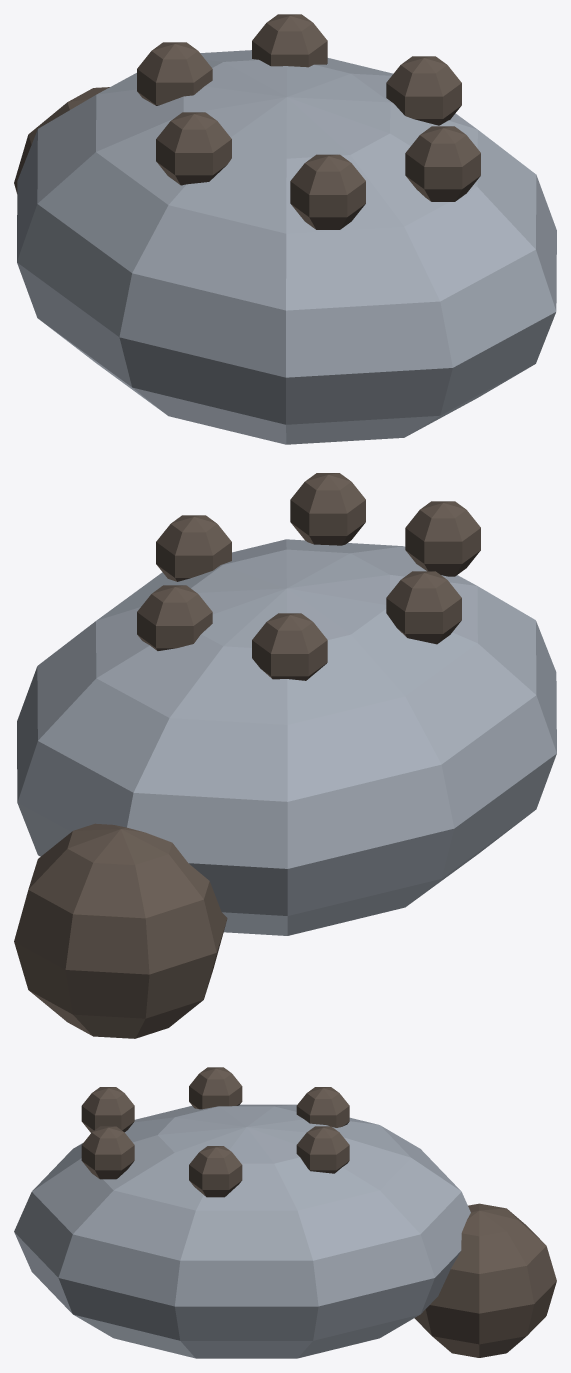
File: fauna_beetle.glb
3 renders of one model, top to bottom at view 1: azimuth 30°, elevation 25°; view 2: azimuth 150°, elevation 25°; view 3: azimuth 270°, elevation 25°, orthographic. The views are drawn at different scales.
Visible parts, largest first — view 1: Body, Spots, Head; view 2: Body, Head, Spots; view 3: Body, Head, Spots.
Part boxes in pixels (left/top/right/bottom): Body: left=17, top=50, right=556, bottom=444; Spots: left=137, top=14, right=480, bottom=229; Head: left=14, top=87, right=109, bottom=193; Body: left=17, top=539, right=556, bottom=935; Head: left=14, top=823, right=227, bottom=1038; Spots: left=137, top=473, right=480, bottom=680; Body: left=14, top=1104, right=470, bottom=1358; Head: left=414, top=1203, right=556, bottom=1357; Spots: left=81, top=1067, right=349, bottom=1197.
Size of the model in its own units: 0.2283 by 0.173 by 0.35.
